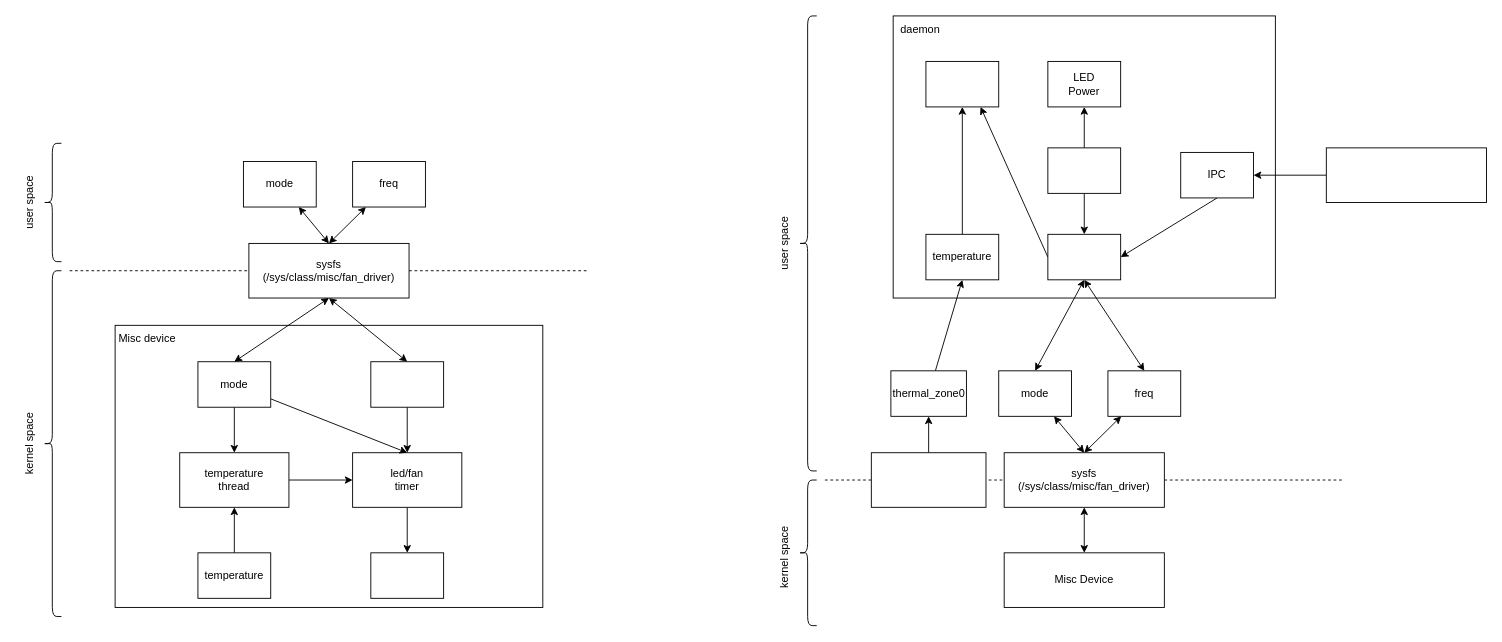
Image size: 1502x642. Some labels were removed from this diagram. The shapes that lost their labels are listed below. From the top down, each one's box as (x1, y1, x2, y2) in pixels, then its label:
(925, 61, 999, 107): oled
(1047, 147, 1121, 193): Buttons
(1325, 147, 1486, 202): CLI applicaiton
(1047, 233, 1121, 280): fan driver management
(370, 361, 444, 407): frequency
(870, 452, 986, 507): sysfs (/sys/class/thermal )
(370, 552, 444, 598): GPIO
